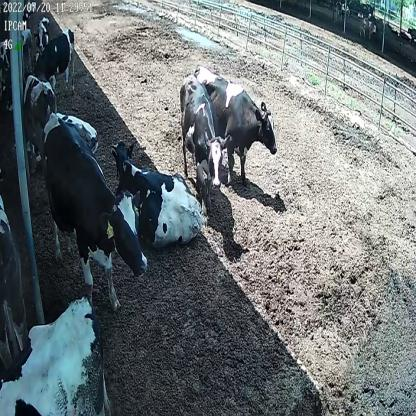cow: (40, 115, 149, 316), (110, 138, 205, 252), (195, 63, 280, 187), (177, 72, 232, 225), (32, 29, 78, 93), (25, 71, 58, 151), (36, 18, 53, 52)
